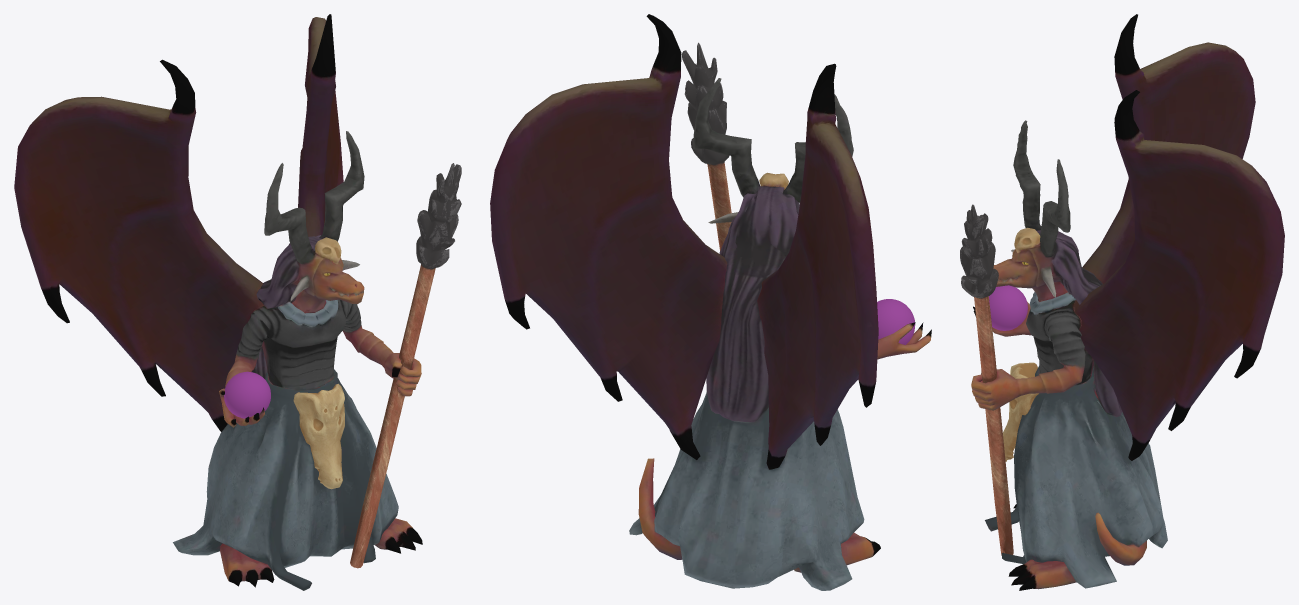
The model's file is MZ4250 - Kobold Chief with Wings.glb.
3 views of the same model, side by side, from view 1: azimuth 30°, elevation 25°; view 2: azimuth 150°, elevation 25°; view 3: azimuth 270°, elevation 25° (orthographic). The views are drawn at different scales.
Parts seen in each view (by area): view 1: Body.001; view 2: Body.001; view 3: Body.001.
Boxes of the visible parts, x1,y1,x2,y2 form: Body.001: [14, 14, 461, 590]; Body.001: [490, 14, 931, 590]; Body.001: [960, 14, 1284, 590].
Size of the model in its own units: 0.9164 by 1.3 by 0.7847.
5 materials, 5 textured.
